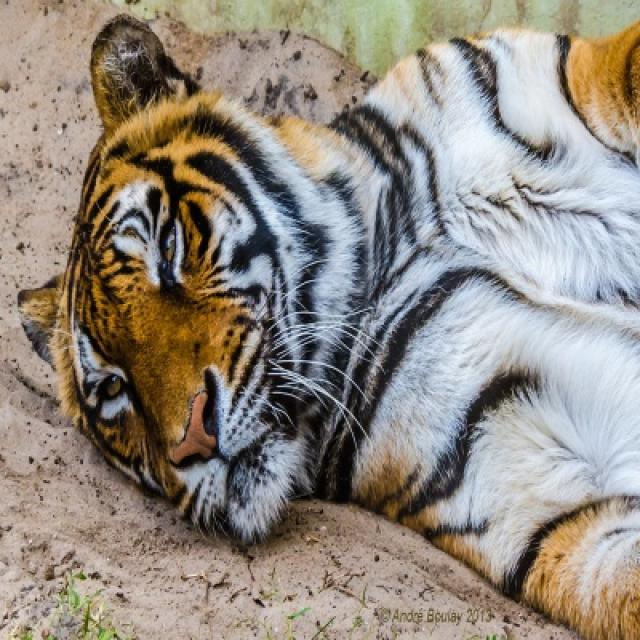Tiger: (21, 15, 638, 634)
